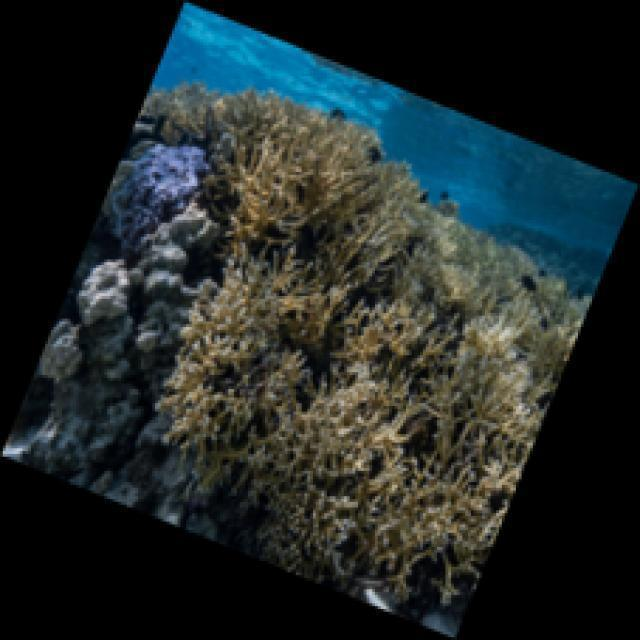Dead Coral: (357, 189, 549, 460), (242, 346, 448, 576), (213, 97, 415, 331), (159, 282, 306, 474)
